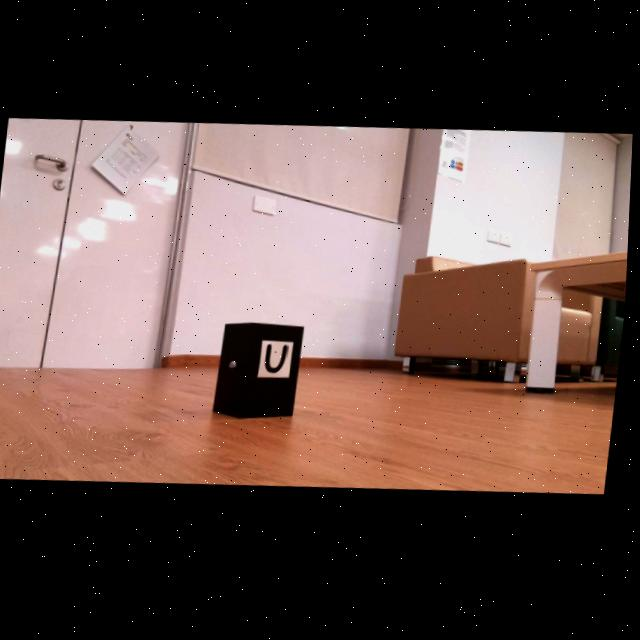U: (269, 347, 291, 375)
